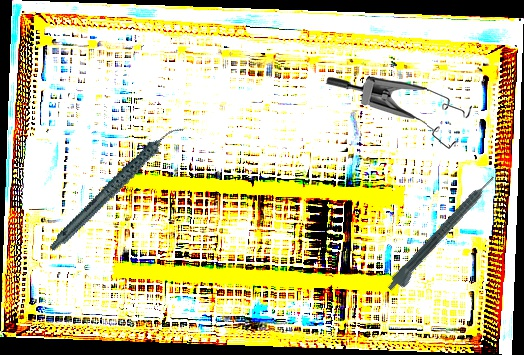Handpiece: (28, 122, 204, 253), (384, 172, 503, 298)
Speculum: (324, 74, 473, 150)
